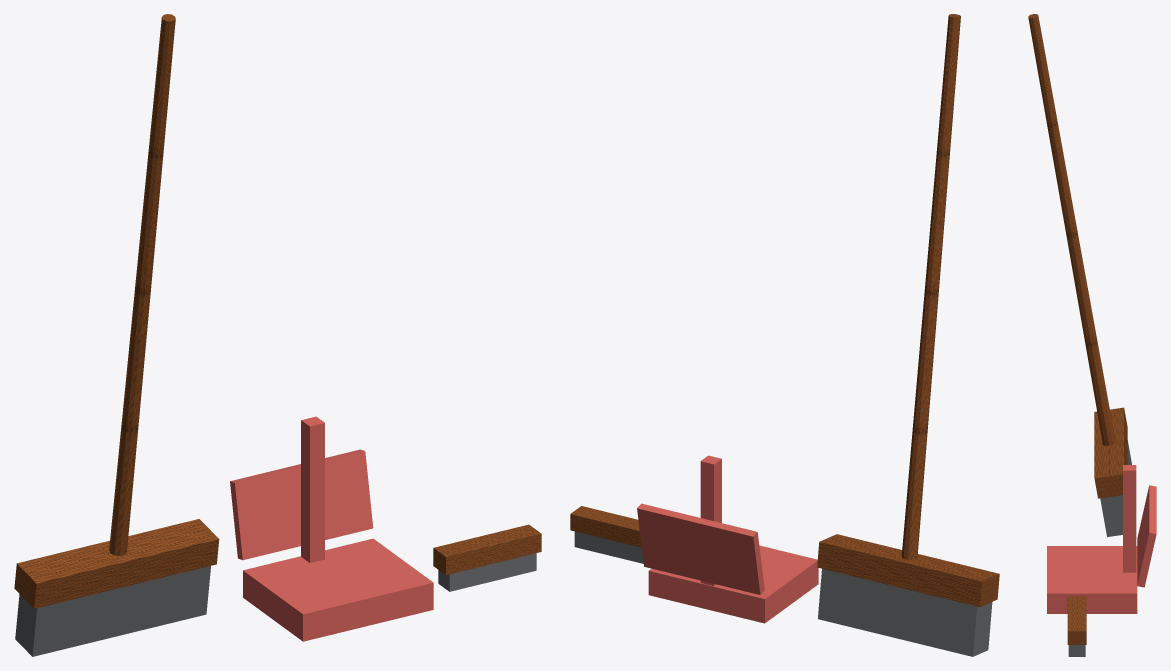
Rendered from woodworking-workshop-and-joinery-woodworking-workshop--f2b14154__34269.glb.
3 renders of one model, left to right at view 1: azimuth 30°, elevation 25°; view 2: azimuth 150°, elevation 25°; view 3: azimuth 270°, elevation 25°, orthographic. The views are drawn at different scales.
Parts seen in each view (by area): view 1: woodworking-workshop-and-joinery-broom-and-dustpan; view 2: woodworking-workshop-and-joinery-broom-and-dustpan; view 3: woodworking-workshop-and-joinery-broom-and-dustpan.
Boxes of the visible parts, x1,y1,x2,y2 form: woodworking-workshop-and-joinery-broom-and-dustpan: (14,14,541,656); woodworking-workshop-and-joinery-broom-and-dustpan: (570,14,999,656); woodworking-workshop-and-joinery-broom-and-dustpan: (1028,14,1156,656).
Bounding box in the file's own units: 1.12 × 1.46 × 0.3414.
Materials: 3 (1 with a texture image).
